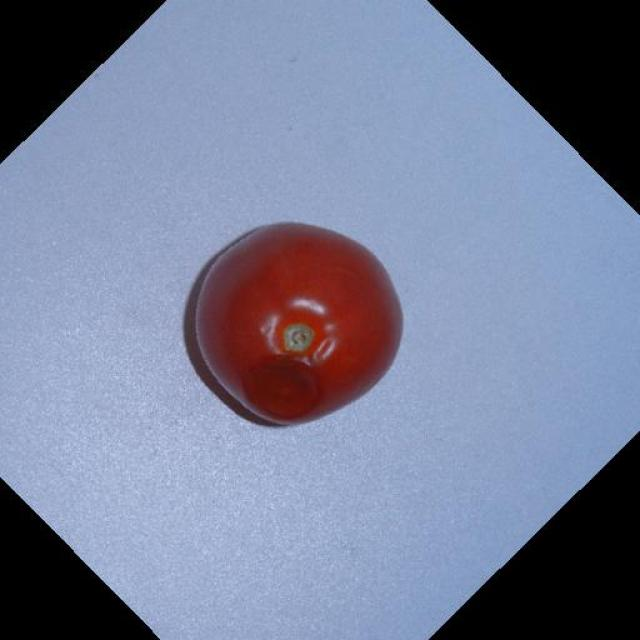Stale_tomato: (175, 212, 404, 430)
